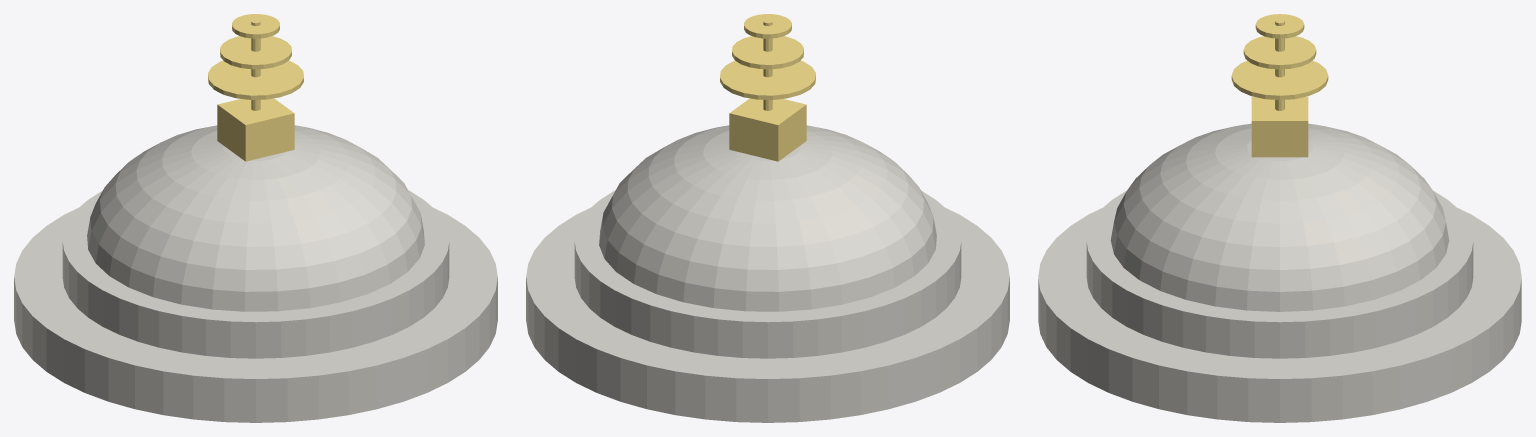
File: stupa_s4.glb
The picture shows the model from 3 angles, left to right: view 1: azimuth 30°, elevation 25°; view 2: azimuth 150°, elevation 25°; view 3: azimuth 270°, elevation 25°; orthographic projection.
Parts seen in each view (by area): view 1: Sphere, Cylinder, Cylinder.001, Cube, Cylinder.003, Cylinder.004, Cylinder.005; view 2: Sphere, Cylinder, Cylinder.001, Cube, Cylinder.003, Cylinder.004, Cylinder.005; view 3: Sphere, Cylinder, Cylinder.001, Cube, Cylinder.003, Cylinder.004, Cylinder.005.
Boxes of the visible parts, <box> form: Sphere: <box>87,125,424,311</box>; Cylinder: <box>14,208,497,422</box>; Cylinder.001: <box>62,190,449,358</box>; Cube: <box>217,98,294,161</box>; Cylinder.003: <box>208,60,303,99</box>; Cylinder.004: <box>220,36,291,69</box>; Cylinder.005: <box>232,14,279,38</box>; Sphere: <box>599,125,936,311</box>; Cylinder: <box>526,208,1009,422</box>; Cylinder.001: <box>574,190,961,358</box>; Cube: <box>729,98,806,161</box>; Cylinder.003: <box>720,60,815,99</box>; Cylinder.004: <box>732,36,803,69</box>; Cylinder.005: <box>744,14,791,38</box>; Sphere: <box>1110,123,1449,311</box>; Cylinder: <box>1038,208,1521,422</box>; Cylinder.001: <box>1086,190,1473,358</box>; Cube: <box>1251,97,1308,157</box>; Cylinder.003: <box>1231,60,1328,99</box>; Cylinder.004: <box>1243,36,1316,69</box>; Cylinder.005: <box>1255,14,1304,38</box>.
Size of the model in its own units: 6 by 4.3 by 6.
